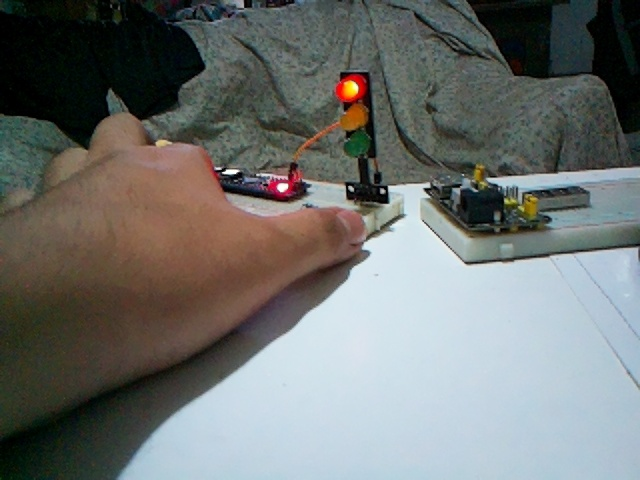traffic_light_red: (338, 71, 386, 195)
